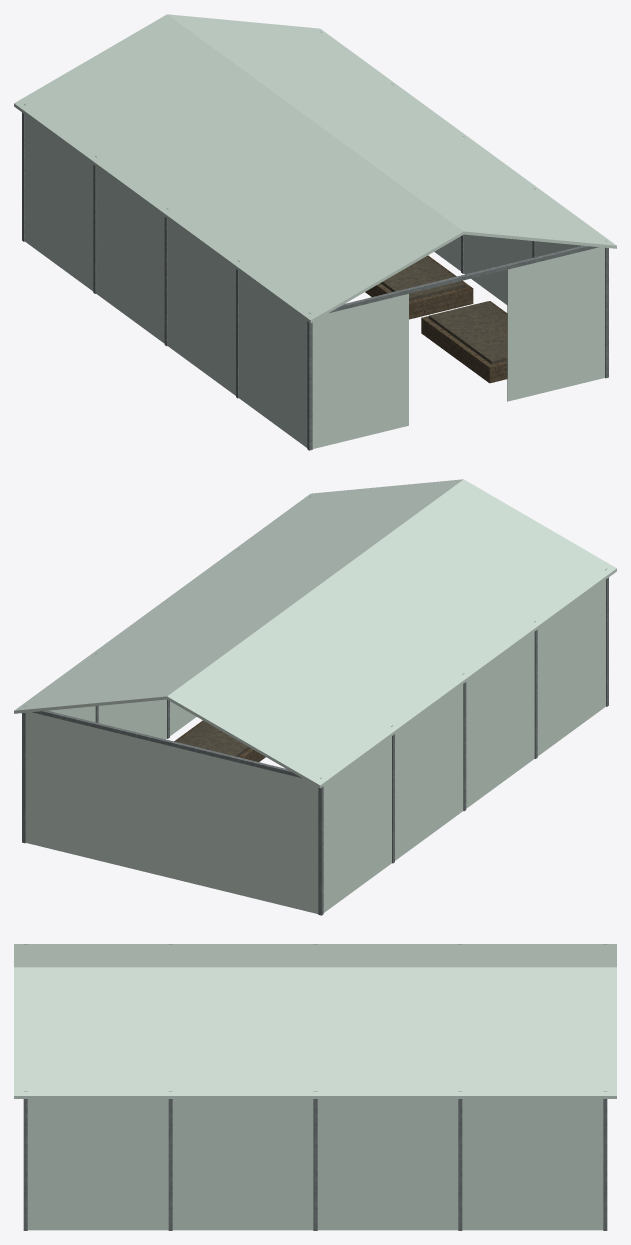
The model's file is RN_estufa.gltf.
3 renders of one model, top to bottom at view 1: azimuth 30°, elevation 25°; view 2: azimuth 150°, elevation 25°; view 3: azimuth 270°, elevation 25°, orthographic.
Visible parts, largest first — view 1: estufa_TELHADO, estufa_VIDRO_LATERAL, estufa_VIDRO_FRENTE, estufa_SOLO, estufa_CANTEIRO, estufa_MONTANTE, estufa_TRAVESSA; view 2: estufa_TELHADO, estufa_VIDRO_FUNDO, estufa_VIDRO_LATERAL, estufa_MONTANTE, estufa_TRAVESSA, estufa_SOLO; view 3: estufa_TELHADO, estufa_VIDRO_LATERAL, estufa_MONTANTE.
Part boxes in pixels (left/top/right/bottom): estufa_TELHADO: left=14, top=14, right=616, bottom=323; estufa_VIDRO_LATERAL: left=25, top=115, right=582, bottom=447; estufa_VIDRO_FRENTE: left=312, top=247, right=604, bottom=448; estufa_SOLO: left=380, top=256, right=507, bottom=364; estufa_CANTEIRO: left=365, top=255, right=507, bottom=383; estufa_MONTANTE: left=22, top=112, right=608, bottom=450; estufa_TRAVESSA: left=24, top=31, right=606, bottom=313; estufa_TELHADO: left=14, top=479, right=616, bottom=788; estufa_VIDRO_FUNDO: left=26, top=712, right=318, bottom=913; estufa_VIDRO_LATERAL: left=48, top=580, right=605, bottom=912; estufa_MONTANTE: left=22, top=577, right=608, bottom=915; estufa_TRAVESSA: left=24, top=496, right=606, bottom=778; estufa_SOLO: left=176, top=721, right=250, bottom=756; estufa_TELHADO: left=14, top=944, right=616, bottom=1098; estufa_VIDRO_LATERAL: left=27, top=1099, right=603, bottom=1230; estufa_MONTANTE: left=23, top=1099, right=607, bottom=1230.
Bounding box in the file's own units: 6.2 × 3.6 × 10.4.
Materials: 4 (3 with a texture image).
